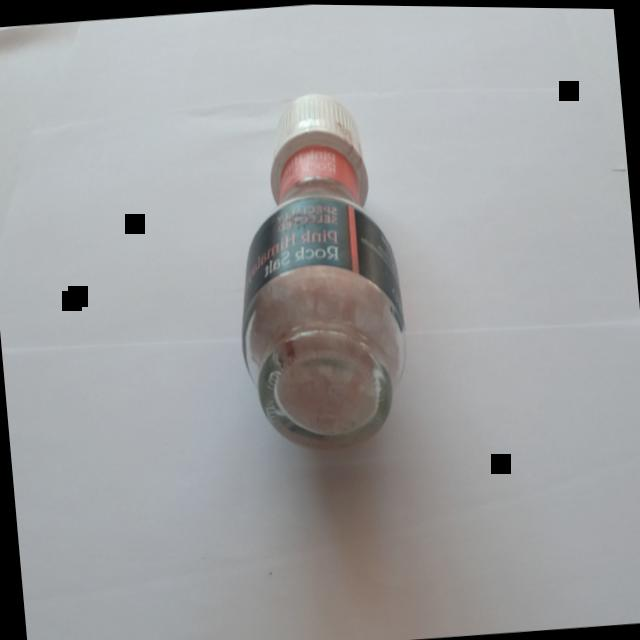Salt: (199, 63, 436, 480)
